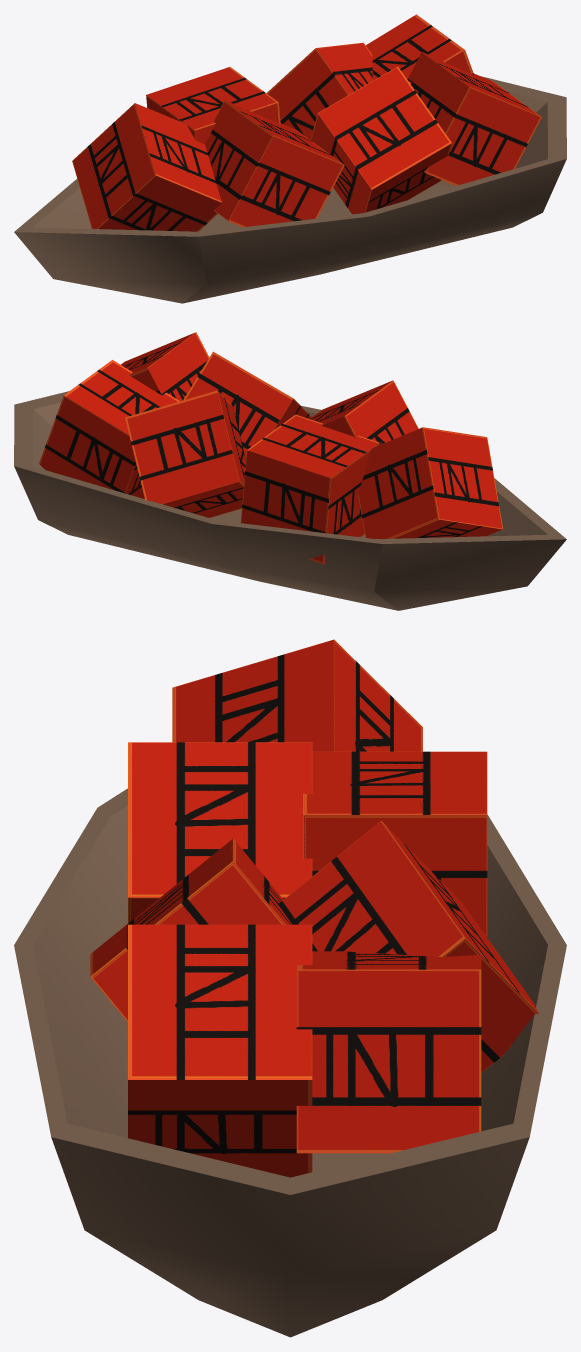
File: TNTSHiP.fbx
The picture shows the model from 3 angles, top to bottom: view 1: azimuth 30°, elevation 25°; view 2: azimuth 150°, elevation 25°; view 3: azimuth 270°, elevation 25°; orthographic projection. The views are drawn at different scales.
Parts seen in each view (by area): view 1: polySurface3; view 2: polySurface3; view 3: polySurface3.
Part boxes in pixels (left/top/right/bottom): polySurface3: left=14, top=14, right=566, bottom=303; polySurface3: left=14, top=332, right=566, bottom=610; polySurface3: left=14, top=639, right=566, bottom=1337.
Size of the model in its own units: 177 by 61.72 by 81.03.
1 material, 1 textured.
